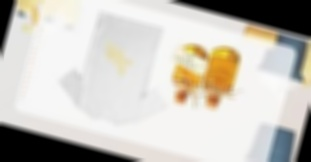oil: (100, 40, 138, 76)
